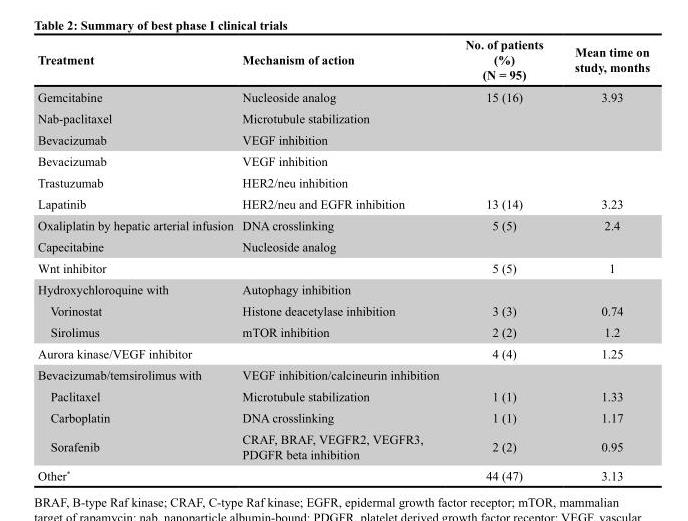table: (37, 37, 649, 482)
table column: (237, 37, 451, 482), (37, 37, 237, 482), (451, 37, 558, 482), (558, 37, 649, 482)
table column header: (37, 37, 649, 85)
table row: (37, 37, 649, 85), (37, 428, 649, 464), (37, 85, 649, 107), (37, 128, 649, 150), (37, 192, 649, 214), (37, 235, 649, 257), (37, 299, 649, 321), (37, 363, 649, 385), (37, 406, 649, 428), (37, 107, 649, 128), (37, 150, 649, 171), (37, 171, 649, 192), (37, 214, 649, 235), (37, 257, 649, 278), (37, 278, 649, 299), (37, 321, 649, 342), (37, 342, 649, 363), (37, 385, 649, 406), (37, 464, 649, 482)
